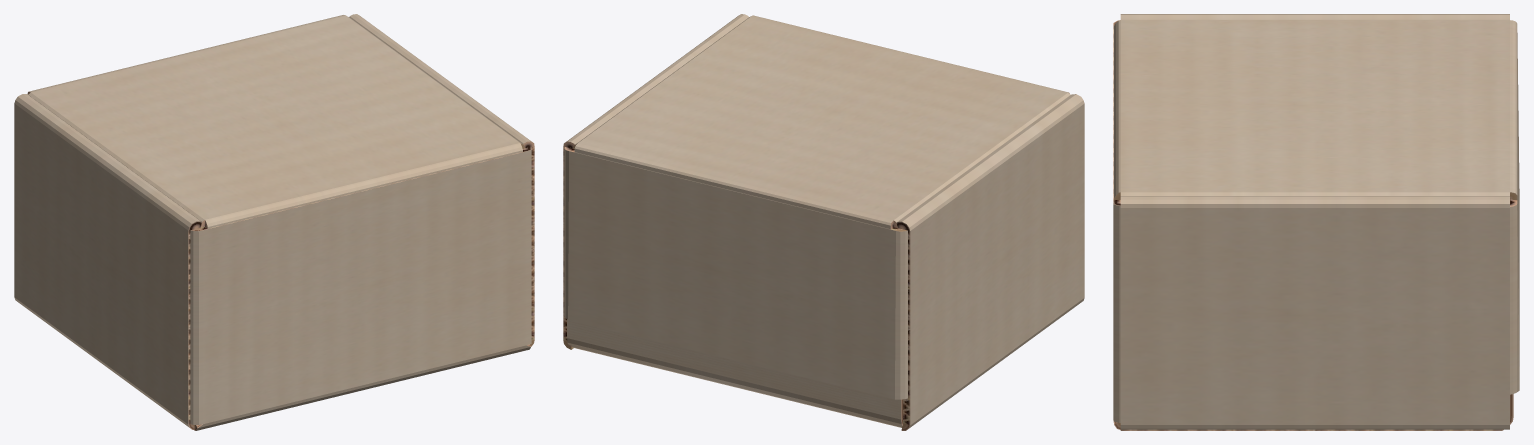
Rendered from cardboard11x14x8.gltf.
The picture shows the model from 3 angles, left to right: view 1: azimuth 30°, elevation 25°; view 2: azimuth 150°, elevation 25°; view 3: azimuth 270°, elevation 25°; orthographic projection. The views are drawn at different scales.
Visible parts, largest first — view 1: Cube.004; view 2: Cube.004; view 3: Cube.004.
Boxes of the visible parts, bbox=[...] form: Cube.004: bbox=[14, 14, 534, 430]; Cube.004: bbox=[563, 14, 1084, 430]; Cube.004: bbox=[1113, 14, 1519, 430].
Bounding box in the file's own units: 5.09 × 2.94 × 4.63.
Materials: 2 (2 with a texture image).
